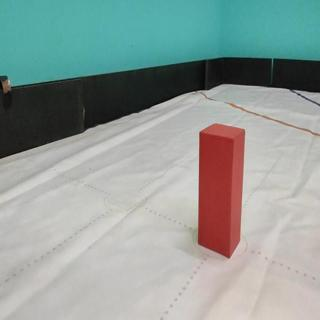redbox: (197, 122, 246, 258)
